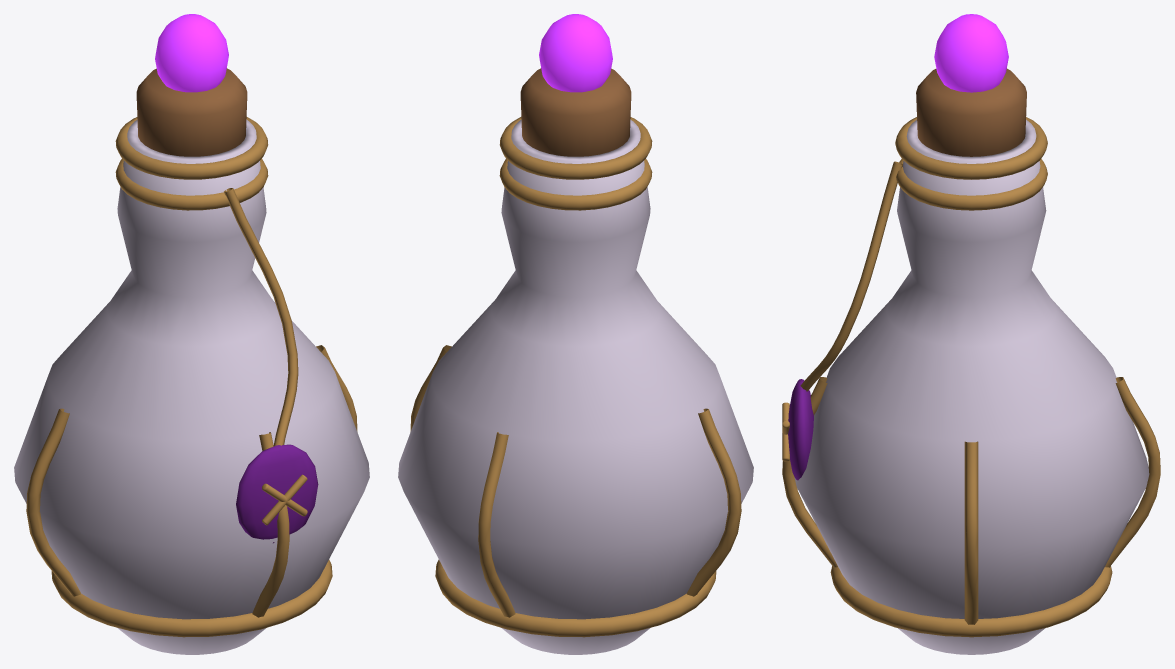
Rendered from Potion_Purple.glb.
3 views of the same model, side by side, from view 1: azimuth 30°, elevation 25°; view 2: azimuth 150°, elevation 25°; view 3: azimuth 270°, elevation 25° (orthographic).
Parts seen in each view (by area): view 1: Thick_Walled_Purple_Bottle, Cork_Stopper, Base_Metal_Trim, Wax_Seal, Stopper_Amethyst, Neck_Brass_Ring.001, Seal_Cord, Arcane_Cage_Rib.002, Neck_Brass_Ring, Arcane_Cage_Rib.003; view 2: Thick_Walled_Purple_Bottle, Cork_Stopper, Base_Metal_Trim, Stopper_Amethyst, Neck_Brass_Ring.001, Arcane_Cage_Rib.002, Neck_Brass_Ring, Arcane_Cage_Rib.001; view 3: Thick_Walled_Purple_Bottle, Cork_Stopper, Base_Metal_Trim, Stopper_Amethyst, Neck_Brass_Ring.001, Arcane_Cage_Rib, Neck_Brass_Ring, Seal_Cord, Arcane_Cage_Rib.001, Wax_Seal, Arcane_Cage_Rib.003.
Boxes of the visible parts, x1=… form: Thick_Walled_Purple_Bottle: x1=14, y1=119, x2=369, y2=654; Cork_Stopper: x1=136, y1=68, x2=247, y2=156; Base_Metal_Trim: x1=51, y1=559, x2=332, y2=637; Wax_Seal: x1=236, y1=444, x2=318, y2=543; Stopper_Amethyst: x1=155, y1=14, x2=228, y2=92; Neck_Brass_Ring.001: x1=115, y1=117, x2=268, y2=179; Seal_Cord: x1=224, y1=188, x2=298, y2=446; Arcane_Cage_Rib.002: x1=26, y1=408, x2=80, y2=596; Neck_Brass_Ring: x1=115, y1=158, x2=268, y2=210; Arcane_Cage_Rib.003: x1=252, y1=432, x2=289, y2=617; Thick_Walled_Purple_Bottle: x1=398, y1=119, x2=753, y2=654; Cork_Stopper: x1=520, y1=68, x2=631, y2=156; Base_Metal_Trim: x1=435, y1=559, x2=716, y2=637; Stopper_Amethyst: x1=539, y1=14, x2=612, y2=92; Neck_Brass_Ring.001: x1=499, y1=117, x2=652, y2=179; Arcane_Cage_Rib.002: x1=687, y1=408, x2=741, y2=596; Neck_Brass_Ring: x1=499, y1=158, x2=652, y2=210; Arcane_Cage_Rib.001: x1=478, y1=432, x2=515, y2=617; Thick_Walled_Purple_Bottle: x1=794, y1=119, x2=1149, y2=654; Cork_Stopper: x1=916, y1=68, x2=1026, y2=156; Base_Metal_Trim: x1=830, y1=566, x2=1112, y2=637; Stopper_Amethyst: x1=934, y1=14, x2=1008, y2=92; Neck_Brass_Ring.001: x1=895, y1=117, x2=1047, y2=179; Arcane_Cage_Rib: x1=964, y1=441, x2=978, y2=624; Neck_Brass_Ring: x1=896, y1=158, x2=1047, y2=210; Seal_Cord: x1=800, y1=161, x2=902, y2=391; Arcane_Cage_Rib.001: x1=1105, y1=377, x2=1160, y2=567; Wax_Seal: x1=788, y1=379, x2=813, y2=480; Arcane_Cage_Rib.003: x1=782, y1=377, x2=837, y2=567.
Bounding box in the file's own units: 0.2229 × 0.396 × 0.223.
